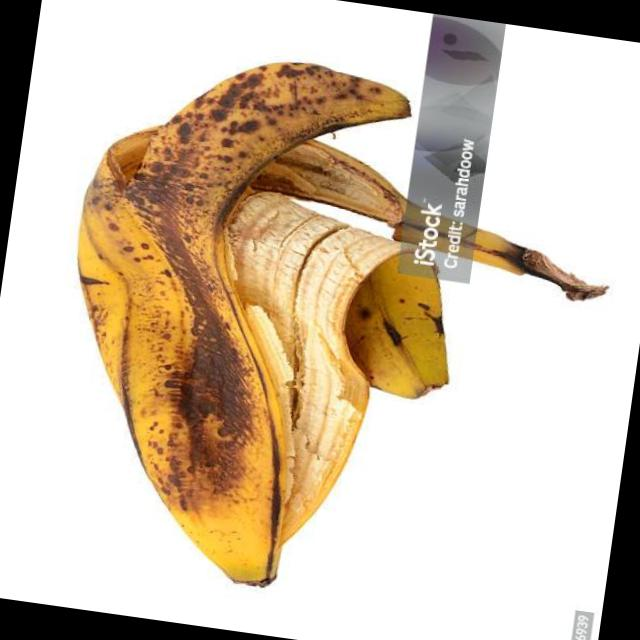banana_peel: (73, 53, 455, 596)
